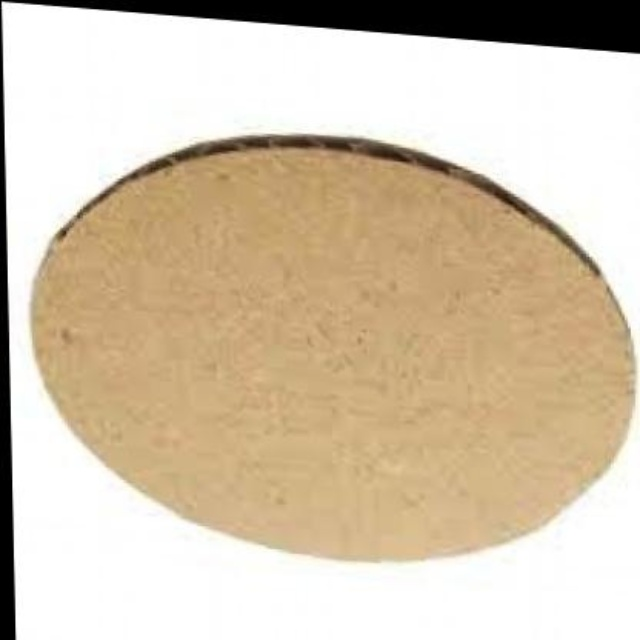trash: (32, 135, 632, 558)
